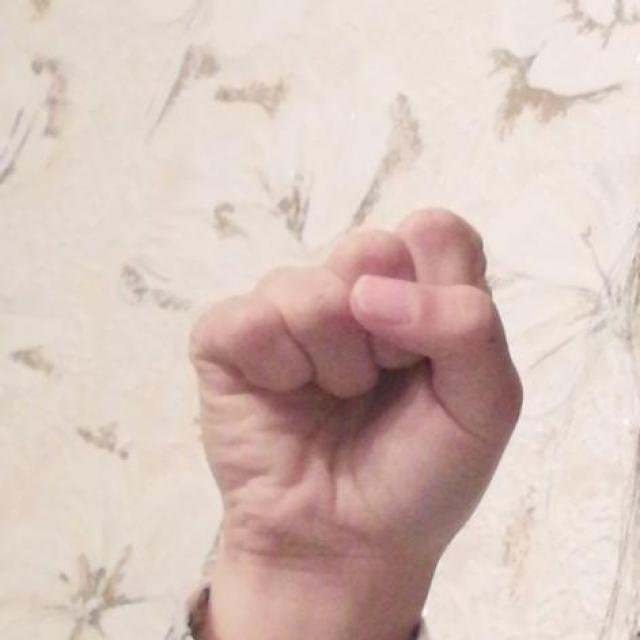hand: (183, 205, 524, 639)
